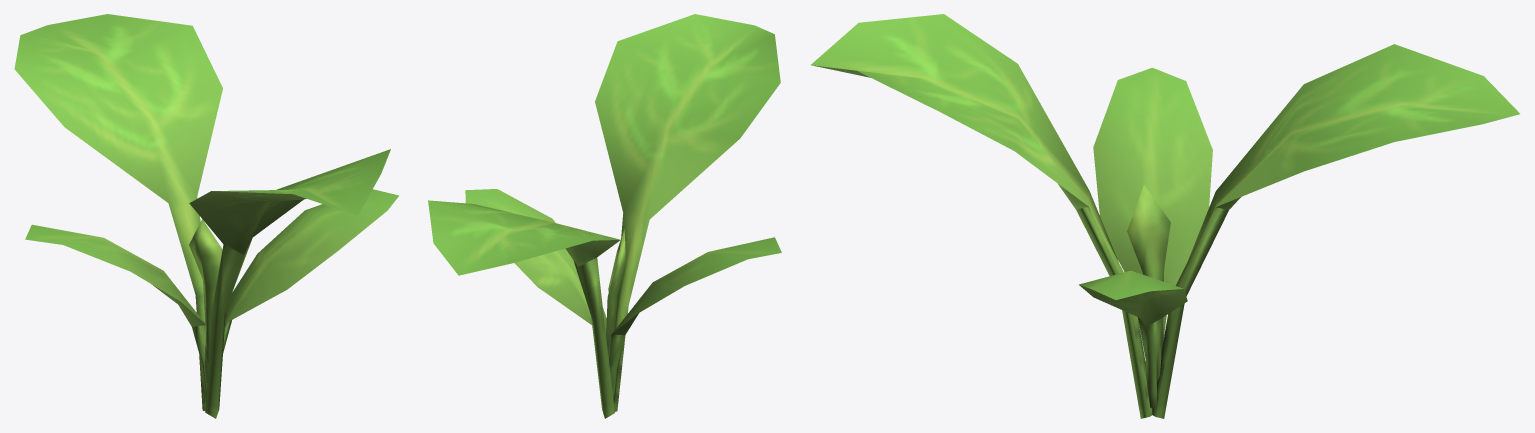
The model's file is cabbage_1.FBX.
3 views of the same model, side by side, from view 1: azimuth 30°, elevation 25°; view 2: azimuth 150°, elevation 25°; view 3: azimuth 270°, elevation 25° (orthographic). The views are drawn at different scales.
Parts seen in each view (by area): view 1: cabbage_1; view 2: cabbage_1; view 3: cabbage_1.
Part boxes in pixels (x1,y1,x2,y2): cabbage_1: (14, 14, 398, 418); cabbage_1: (428, 14, 781, 418); cabbage_1: (810, 14, 1519, 418).
Size of the model in its own units: 12.56 by 11 by 19.14.
1 material, 1 textured.
